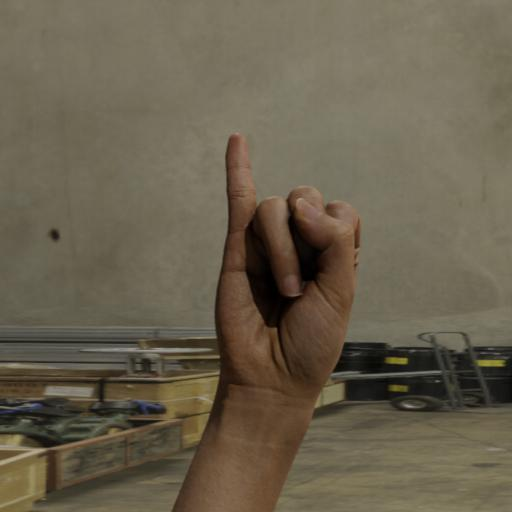I: (201, 122, 373, 426)
